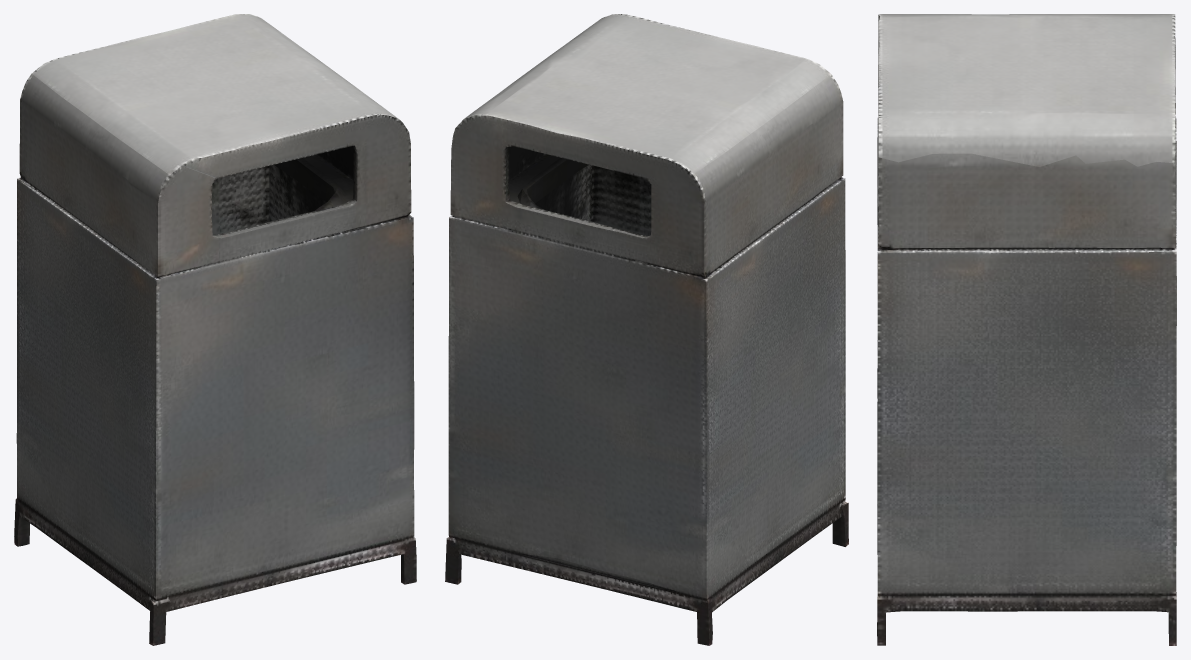
3 views of the same model, side by side, from view 1: azimuth 30°, elevation 25°; view 2: azimuth 150°, elevation 25°; view 3: azimuth 270°, elevation 25° (orthographic). The views are drawn at different scales.
Visible parts, largest first — view 1: bin-scooters; view 2: bin-scooters; view 3: bin-scooters.
Part boxes in pixels (<box>): bin-scooters: <box>14,14,416,645</box>; bin-scooters: <box>445,14,848,645</box>; bin-scooters: <box>877,14,1176,645</box>.
Size of the model in its own units: 0.5811 by 0.9995 by 0.5303.
Materials: 1 (1 with a texture image).
